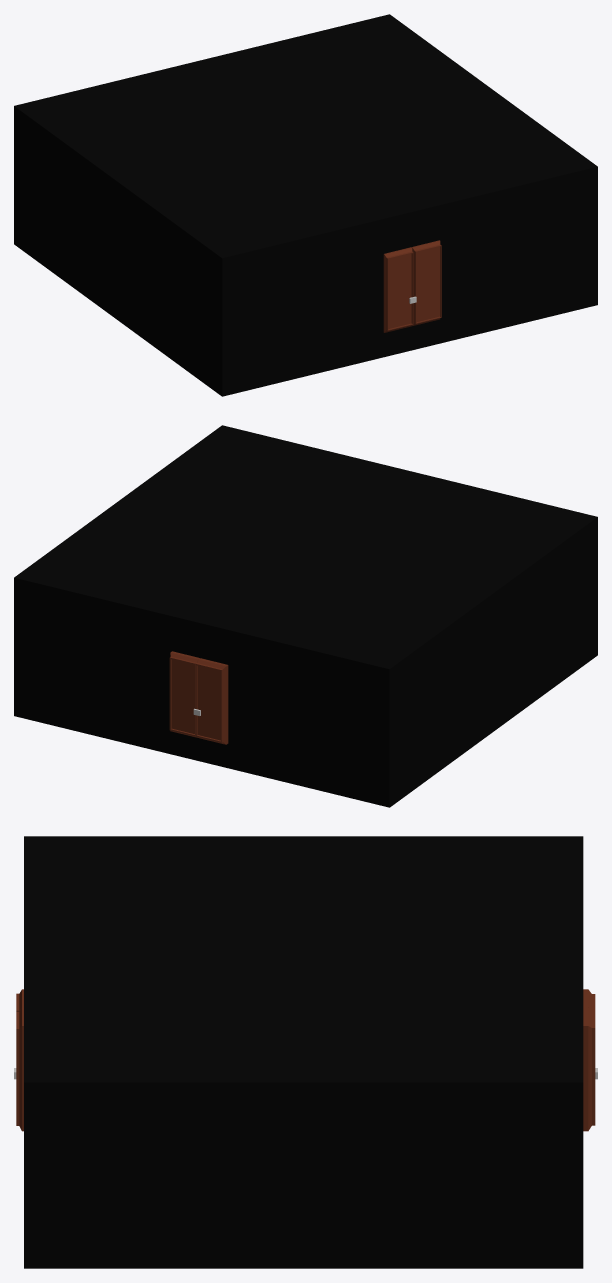
File: sala_escora_cartas.fbx
The picture shows the model from 3 angles, top to bottom: view 1: azimuth 30°, elevation 25°; view 2: azimuth 150°, elevation 25°; view 3: azimuth 270°, elevation 25°; orthographic projection. The views are drawn at different scales.
Visible parts, largest first — view 1: sala de miniGame, portaesq.023, portaesq.022; view 2: sala de miniGame, portaesq.025, portaesq.024; view 3: sala de miniGame, portaesq.024, portaesq.022.
Boxes of the visible parts, x1,y1,x2,y2 form: sala de miniGame: (14, 14, 597, 396); portaesq.023: (383, 247, 413, 332); portaesq.022: (409, 240, 441, 325); sala de miniGame: (14, 425, 597, 807); portaesq.025: (196, 658, 228, 744); portaesq.024: (169, 651, 200, 737); sala de miniGame: (24, 836, 583, 1268); portaesq.024: (583, 1007, 597, 1131); portaesq.022: (14, 1007, 23, 1131).
Size of the model in its own units: 1563 by 550 by 1566.
